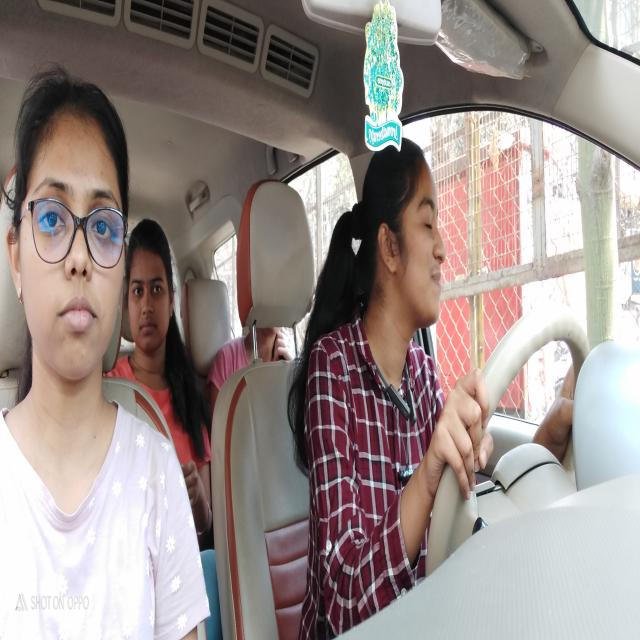LeftRight: (372, 137, 448, 364)
person: (5, 63, 133, 393), (128, 212, 180, 368)
